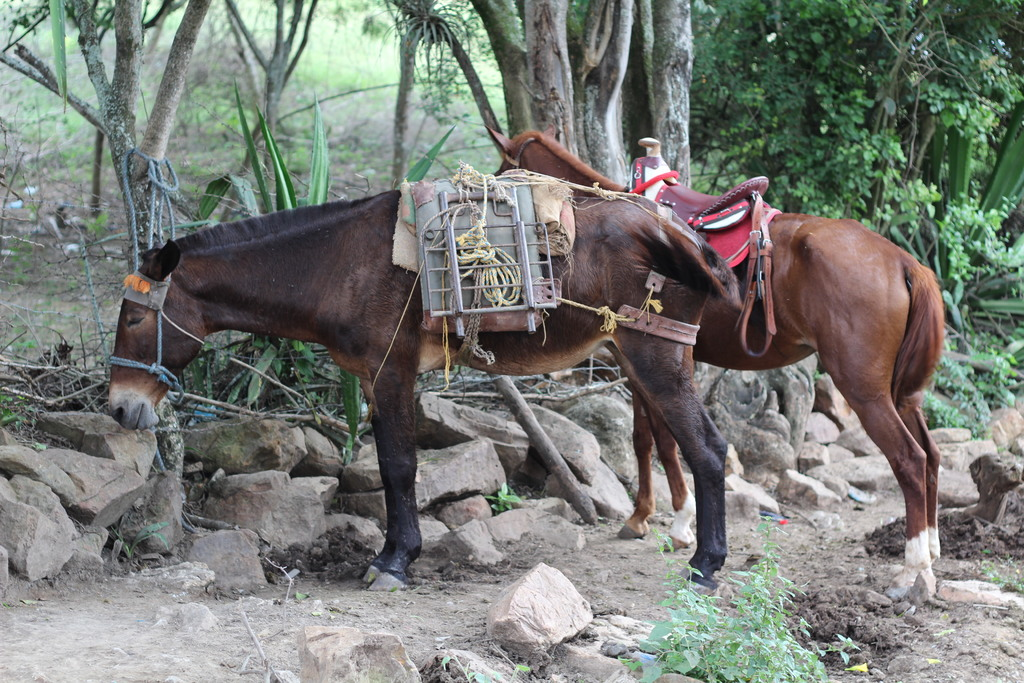horse: (106, 168, 745, 600)
